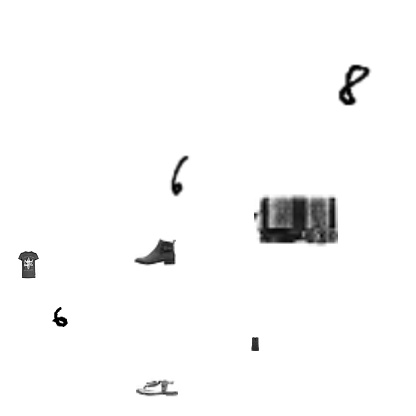6: (148, 150, 204, 206), (45, 305, 73, 333)
8: (323, 55, 379, 111)
Ankle_boot: (134, 231, 176, 273)
Bag: (254, 177, 338, 261)
Sandal: (136, 366, 178, 408)
Shirt: (248, 337, 262, 351)
T-shirt/top: (14, 251, 42, 279)
